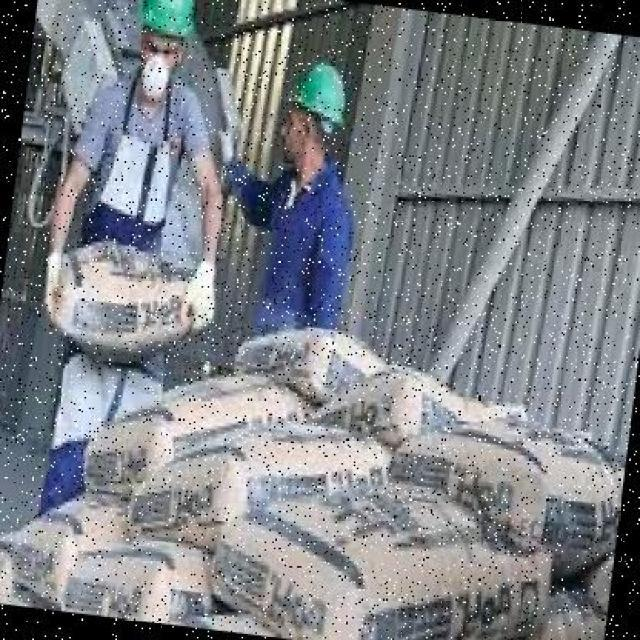gunny_bag: (211, 523, 366, 640), (392, 446, 554, 545), (56, 278, 193, 354), (66, 553, 162, 622), (0, 537, 80, 611), (130, 487, 230, 530), (238, 334, 324, 378), (80, 438, 163, 482), (330, 392, 408, 426), (596, 558, 613, 614)
